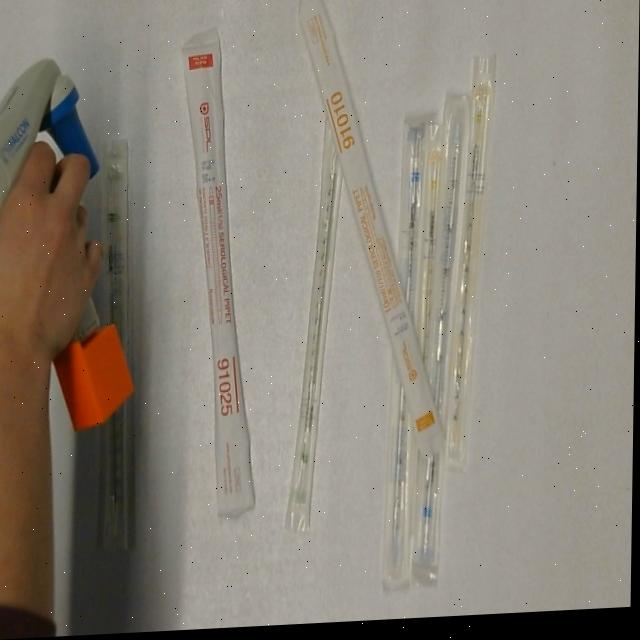Pipette Controller: (0, 55, 141, 438)
Serelogical Pipet 1 mL: (443, 58, 502, 475), (412, 126, 453, 380)
Serelogical Pipet 10 mL: (289, 0, 450, 471)
Serelogical Pipet 2 mL: (285, 115, 348, 542)
Serelogical Pipet 25 mL: (176, 24, 279, 526)
Serelogical Pipet 5 mL: (414, 94, 474, 575), (382, 111, 434, 595)
